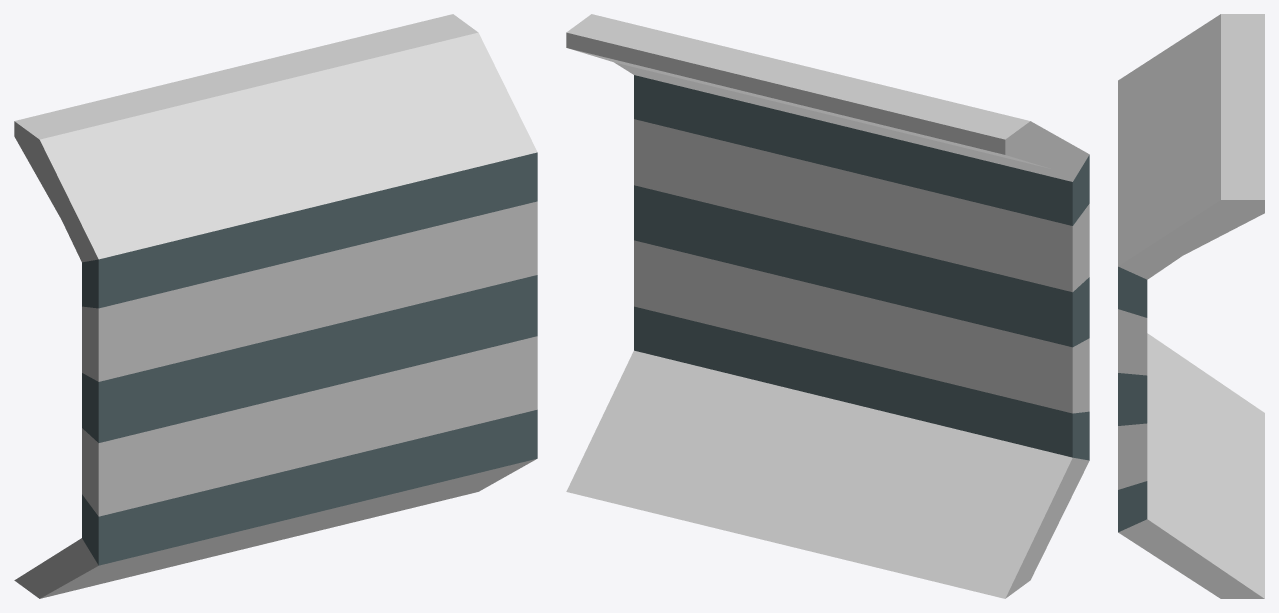
Rendered from scifi_wall_bowed_striped.fbx.
3 renders of one model, left to right at view 1: azimuth 30°, elevation 25°; view 2: azimuth 150°, elevation 25°; view 3: azimuth 270°, elevation 25°, orthographic. The views are drawn at different scales.
Visible parts, largest first — view 1: Cube.016; view 2: Cube.016; view 3: Cube.016.
Part boxes in pixels (<box>): Cube.016: <box>14,14,537,598</box>; Cube.016: <box>566,14,1089,598</box>; Cube.016: <box>1118,14,1264,598</box>.
Size of the model in its own units: 3 by 3 by 1.
